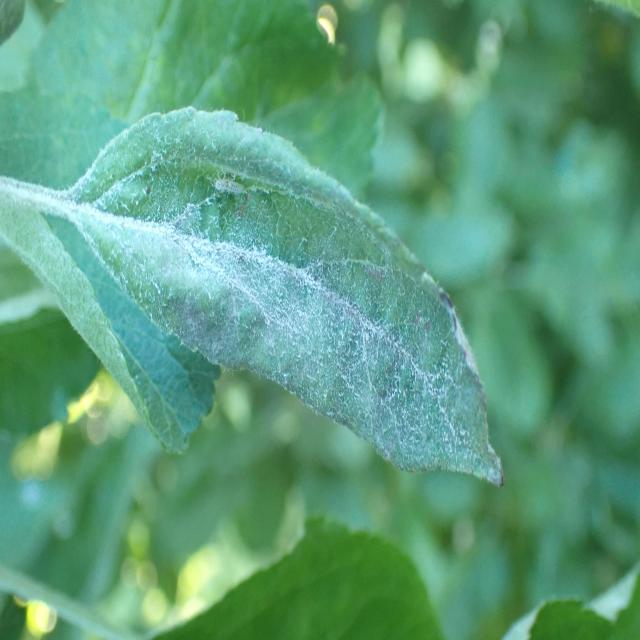Powdery_mildew: (41, 87, 508, 497)
